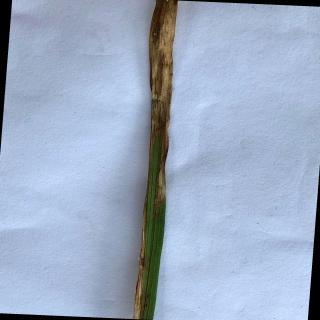Hawar-Daun: (149, 0, 178, 144), (132, 213, 148, 318), (153, 145, 169, 208)
